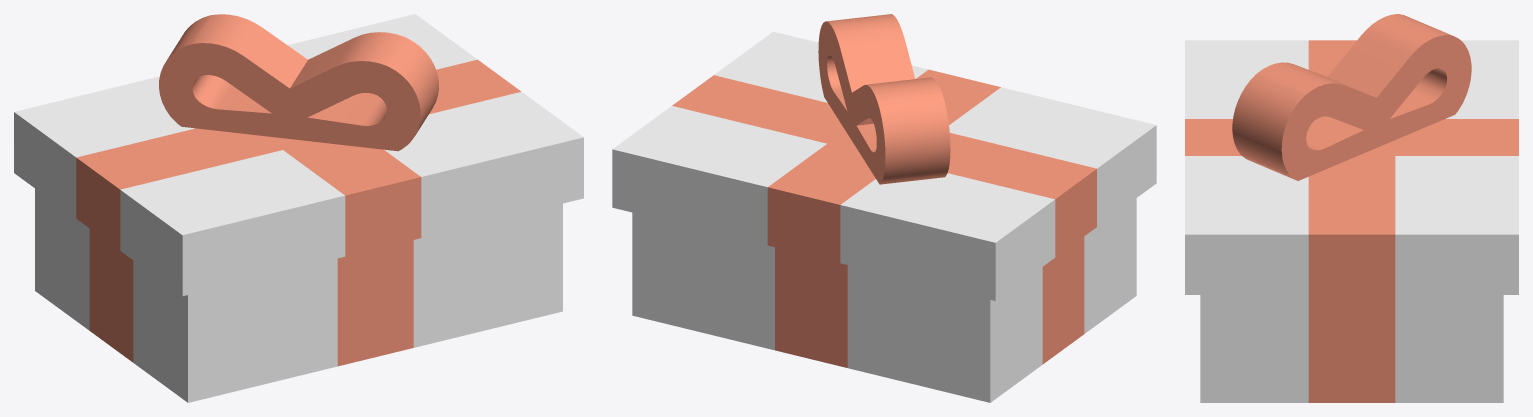
Rendered from presentLow.glb.
3 views of the same model, side by side, from view 1: azimuth 30°, elevation 25°; view 2: azimuth 150°, elevation 25°; view 3: azimuth 270°, elevation 25° (orthographic). The views are drawn at different scales.
Visible parts, largest first — view 1: lid, presentLow(Clone), tie; view 2: lid, presentLow(Clone), tie; view 3: lid, presentLow(Clone), tie.
Part boxes in pixels (x1,y1,x2,y2): lid: (14,14,583,296); presentLow(Clone): (35,188,562,402); tie: (159,14,438,151); lid: (612,31,1156,300); presentLow(Clone): (632,198,1136,402); tie: (818,14,950,184); lid: (1185,40,1518,294); presentLow(Clone): (1200,295,1503,402); tie: (1232,14,1471,180).
Size of the model in its own units: 0.5127 by 0.3212 by 0.3727.
